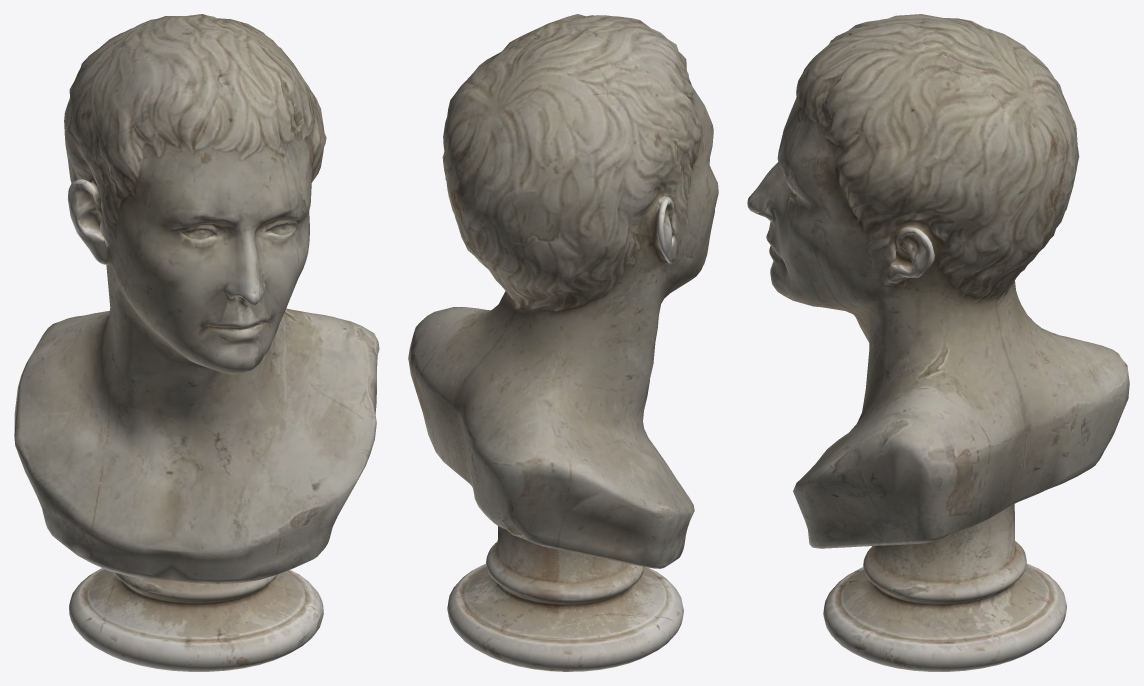
Rendered from marble_bust.glb.
3 views of the same model, side by side, from view 1: azimuth 30°, elevation 25°; view 2: azimuth 150°, elevation 25°; view 3: azimuth 270°, elevation 25° (orthographic). The views are drawn at different scales.
Parts seen in each view (by area): view 1: marble_bust_01; view 2: marble_bust_01; view 3: marble_bust_01.
Part boxes in pixels (<box>): marble_bust_01: <box>14,14,379,671</box>; marble_bust_01: <box>408,14,718,671</box>; marble_bust_01: <box>747,14,1129,671</box>.
Bounding box in the file's own units: 0.2718 × 0.5149 × 0.2997.
Materials: 1 (1 with a texture image).
